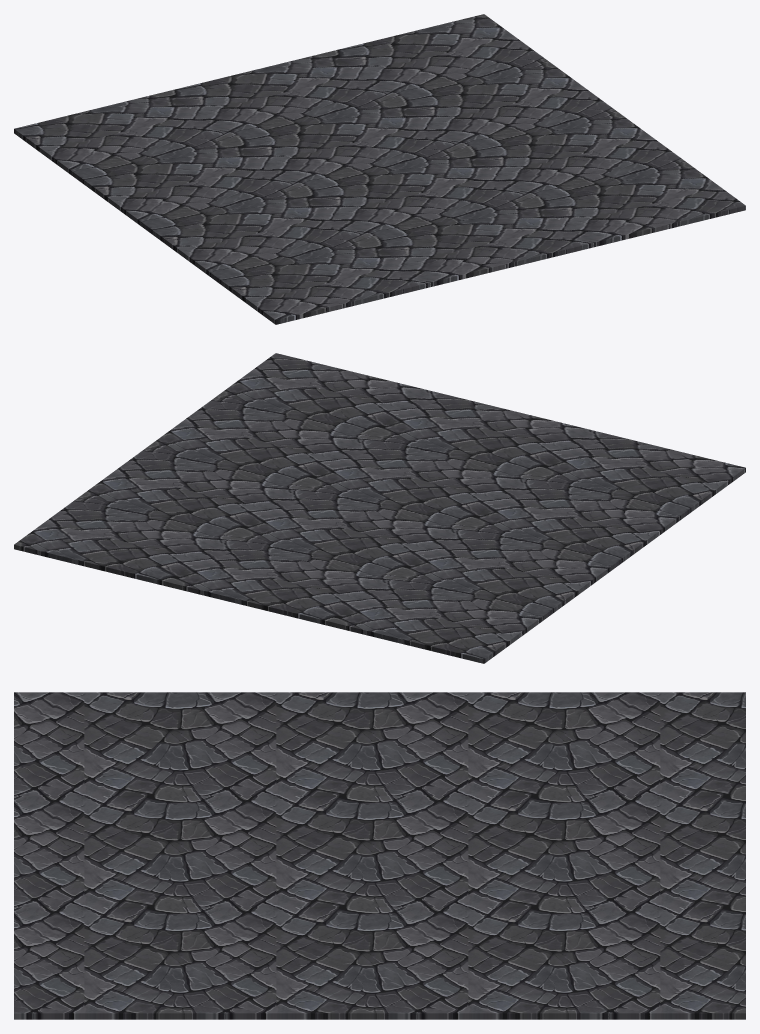
3 renders of one model, top to bottom at view 1: azimuth 30°, elevation 25°; view 2: azimuth 150°, elevation 25°; view 3: azimuth 270°, elevation 25°, orthographic. The views are drawn at different scales.
Visible parts, largest first — view 1: Cube.013; view 2: Cube.013; view 3: Cube.013.
Boxes of the visible parts, x1=… form: Cube.013: x1=14, y1=14, x2=745, y2=324; Cube.013: x1=14, y1=353, x2=745, y2=663; Cube.013: x1=14, y1=692, x2=745, y2=1019.
Bounding box in the file's own units: 1057 × 10.2 × 1096.
Materials: 1 (1 with a texture image).
